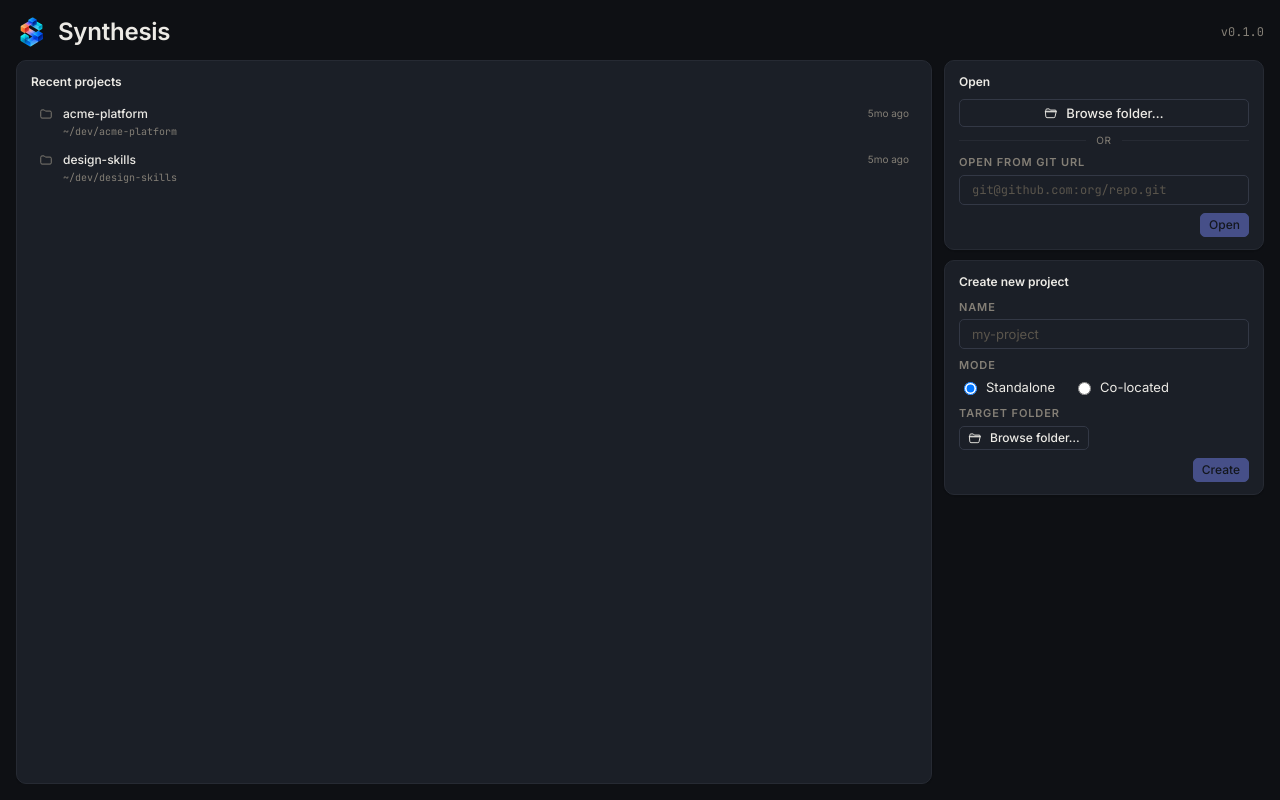
Test: ProjectPicker — recent row click (PPK-FR-02, PPK-FR-07) › shows row-scoped error and keeps picker mounted on failure
The width and height of the screenshot is (1280, 800).
Click the text "acme-platform" at (106, 114), box [63,106,148,121]
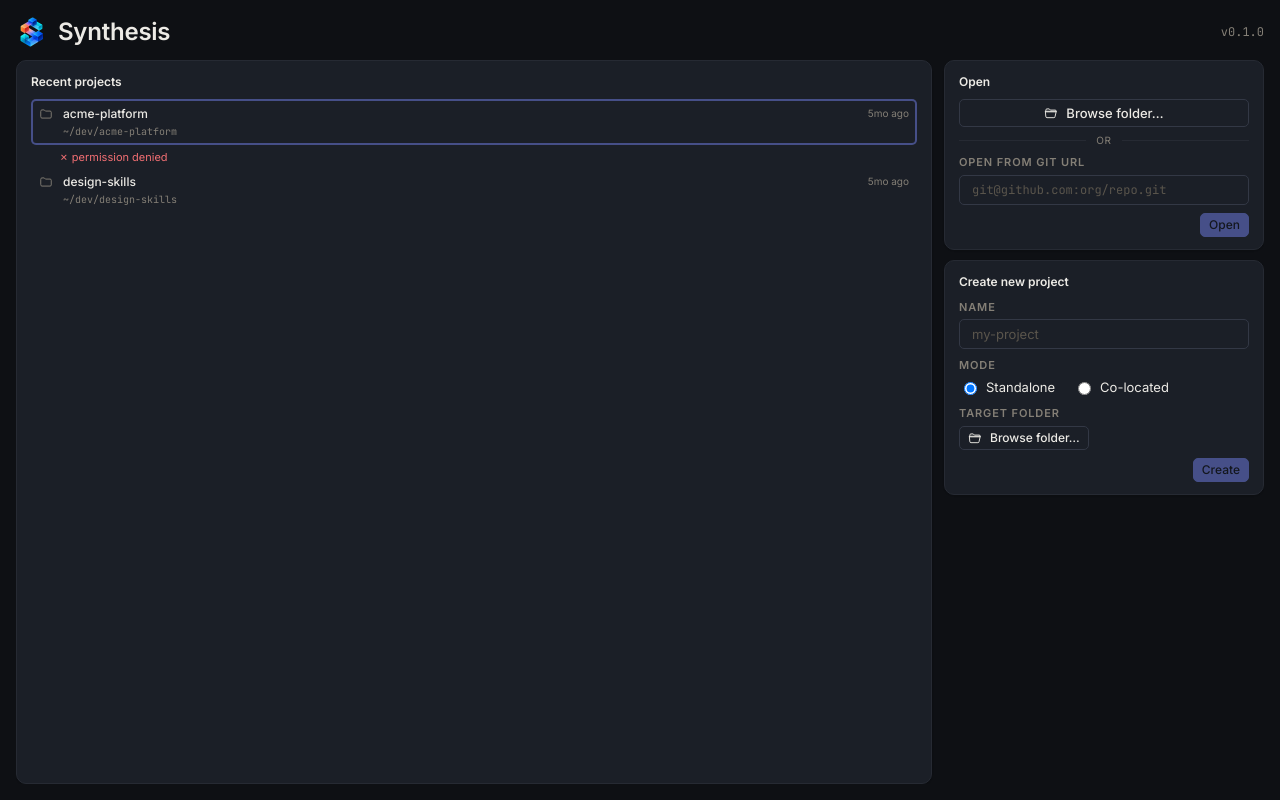
expect the text "design-skills" is shown: met, box [63,174,136,188]
expect the text "✗ permission denied" is shown: met, box [59,150,168,164]
